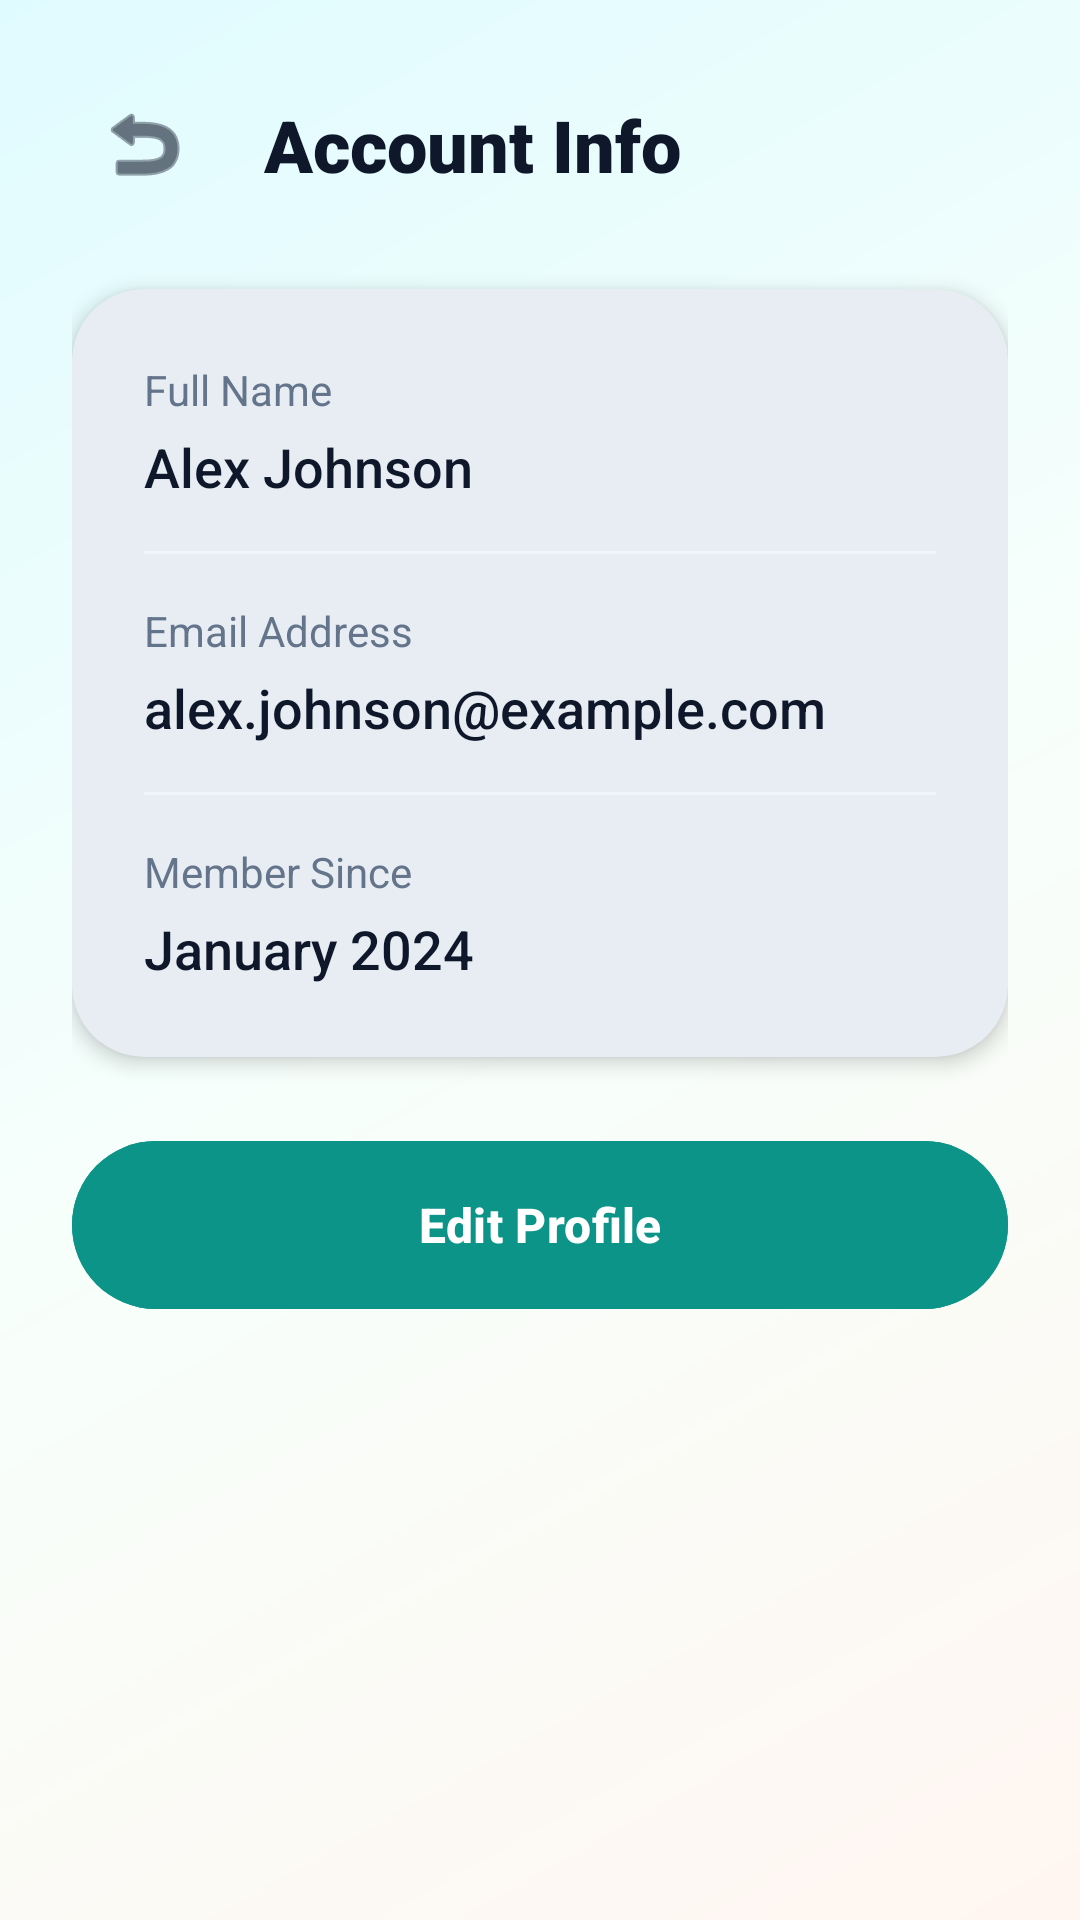

Icons on this 1080 x 1920 Android screen, each with the point to tap as [x,y]:
Back: [145,144]
